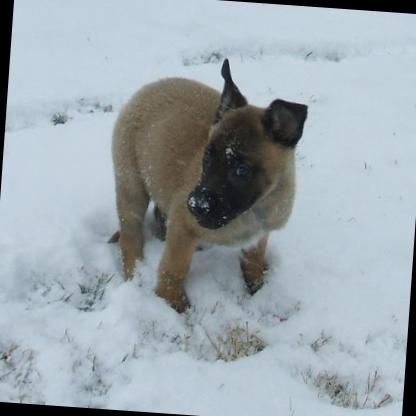malinois: (98, 46, 312, 318)
